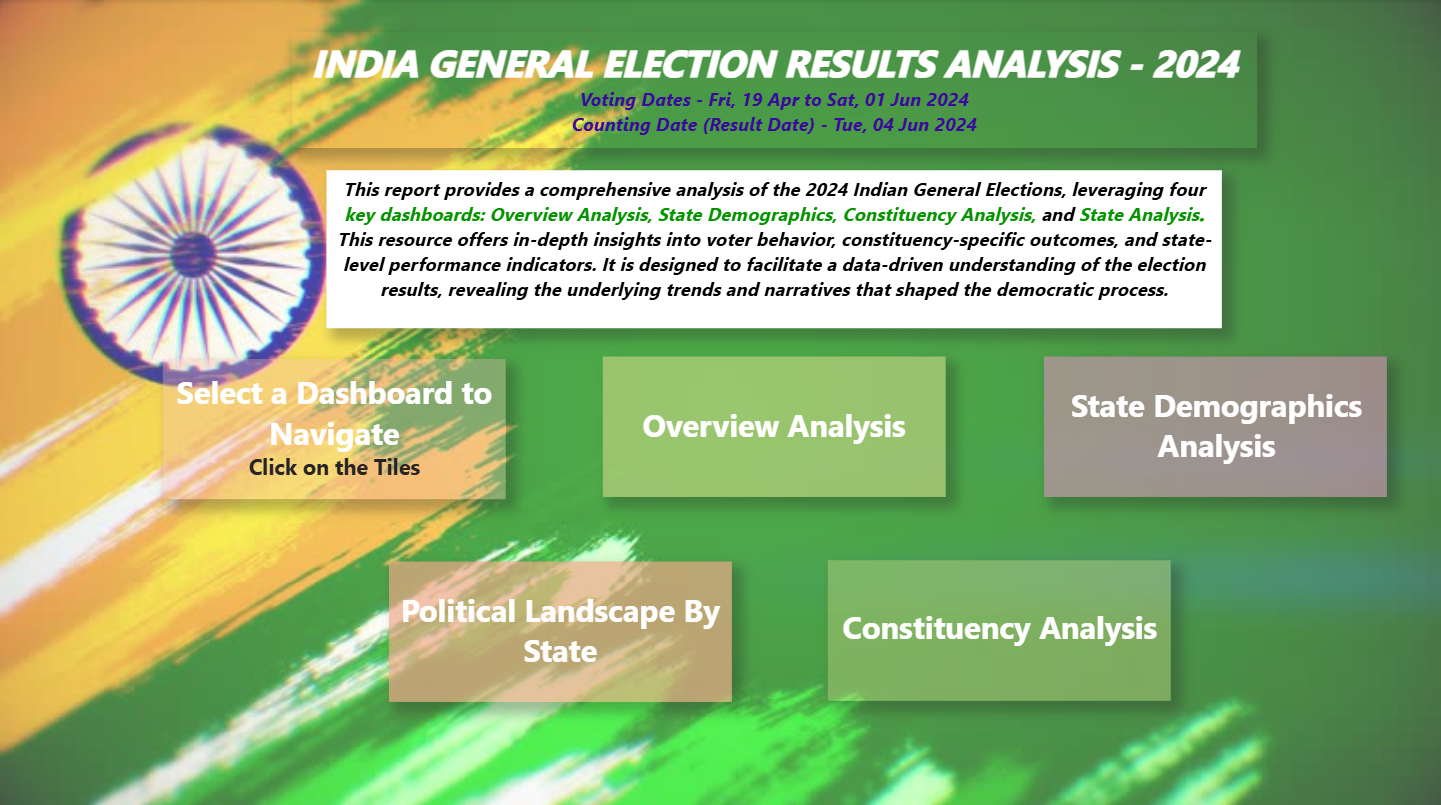

This screenshot's page, from the dashboard's own definition file:
{"tool":"powerbi","page":{"name":"Landing Page","canvas":[1250,700],"ordinal":0},"visuals":[{"type":"textbox","box":[253.4,28.2,836.3,100.9],"z":0},{"type":"textbox","box":[284,148,775,137],"z":1000},{"type":"shape","box":[141.9,312,296.8,122],"z":2000},{"type":"textbox","box":[142,317,297,117],"z":3000},{"type":"group","id":"g1","title":"Group 1","box":[523.1,309.7,296.8,122],"z":4000},{"type":"shape","box":[523.1,309.7,296.8,122],"z":4000,"group":"g1"},{"type":"group","id":"g2","title":"Group 2","box":[904.3,309.7,297.9,122],"z":5000},{"type":"textbox","box":[523.1,344.9,296.8,52.8],"z":5000,"group":"g1"},{"type":"group","id":"g3","title":"Group 3","box":[337.8,486.8,296.8,122],"z":6000},{"type":"shape","box":[337.8,486.8,296.8,122],"z":6000,"group":"g3"},{"type":"group","id":"g4","title":"Group 4","box":[717.8,485.6,297.9,122],"z":7000},{"type":"textbox","box":[337.8,505.6,296.8,84.5],"z":7000,"group":"g3"},{"type":"shape","box":[904.3,309.7,296.8,122],"z":8000,"group":"g2"},{"type":"shape","box":[718.1,485.6,296.8,122],"z":8000,"group":"g4"},{"type":"textbox","box":[905.5,328.5,296.8,84.5],"z":9000,"group":"g2"},{"type":"textbox","box":[717.8,520.5,297.9,52.8],"z":9000,"group":"g4"}]}

Visuals, with their boxes in screenshot pixels (x1, y1, x2, y2), scaled from the page's 1250x700 canvas onto the 1441x805 screenshot:
textbox: x1=292 y1=32 x2=1256 y2=148
textbox: x1=327 y1=170 x2=1221 y2=328
shape: x1=164 y1=359 x2=506 y2=499
textbox: x1=164 y1=365 x2=506 y2=499
"Group 1" group: x1=603 y1=356 x2=945 y2=496
shape: x1=603 y1=356 x2=945 y2=496
"Group 2" group: x1=1042 y1=356 x2=1386 y2=496
textbox: x1=603 y1=397 x2=945 y2=457
"Group 3" group: x1=389 y1=560 x2=732 y2=700
shape: x1=389 y1=560 x2=732 y2=700
"Group 4" group: x1=827 y1=558 x2=1171 y2=699
textbox: x1=389 y1=581 x2=732 y2=679
shape: x1=1042 y1=356 x2=1385 y2=496
shape: x1=828 y1=558 x2=1170 y2=699
textbox: x1=1044 y1=378 x2=1386 y2=475
textbox: x1=827 y1=599 x2=1171 y2=659
